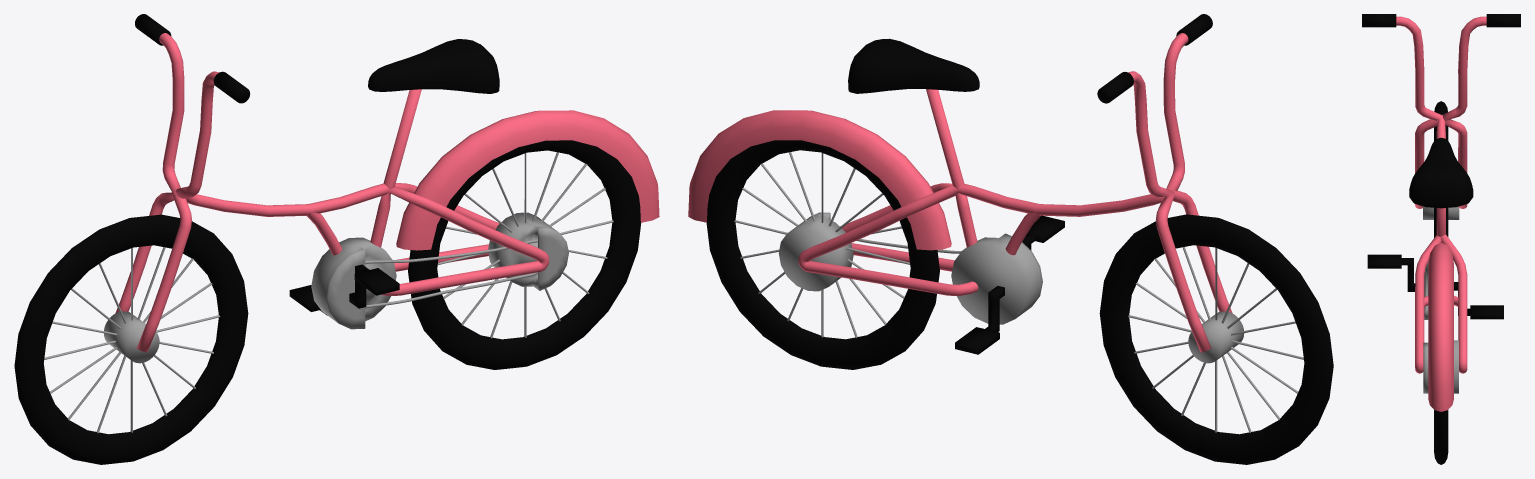
File: BikePink.fbx
3 renders of one model, left to right at view 1: azimuth 30°, elevation 25°; view 2: azimuth 150°, elevation 25°; view 3: azimuth 270°, elevation 25°, orthographic. The views are drawn at different scales.
Parts seen in each view (by area): view 1: Cube.007; view 2: Cube.007; view 3: Cube.007.
Boxes of the visible parts, x1,y1,x2,y2 form: Cube.007: (14,14,659,464); Cube.007: (688,14,1333,464); Cube.007: (1362,14,1520,464).
Bounding box in the file's own units: 253 × 149 × 68.44.
